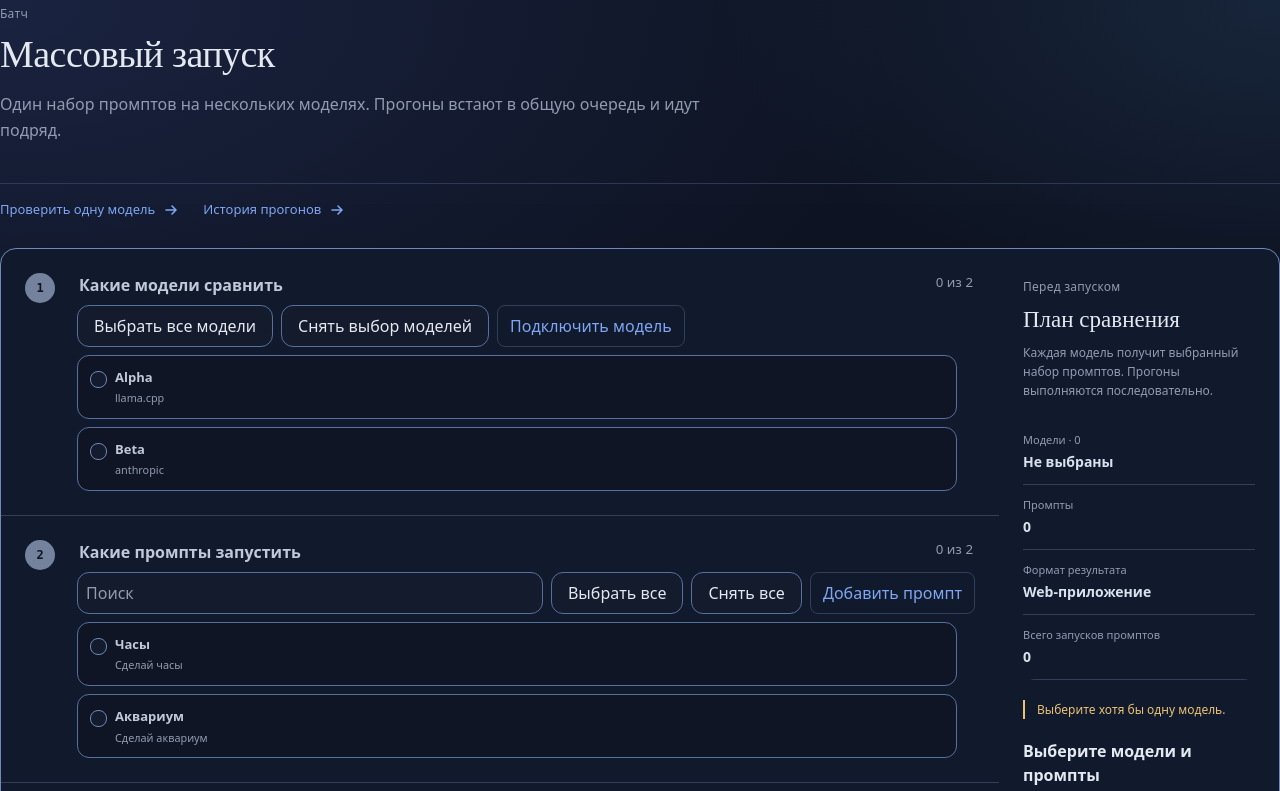
Test case: форма массового запуска › выбирает все модели и объясняет, чего не хватает для запуска
The width and height of the screenshot is (1280, 791).
Check: the text "Alpha" is shown, box [115,368,153,386]
Click the button "Выбрать все модели".
click(175, 326)  # box [77,305,273,347]
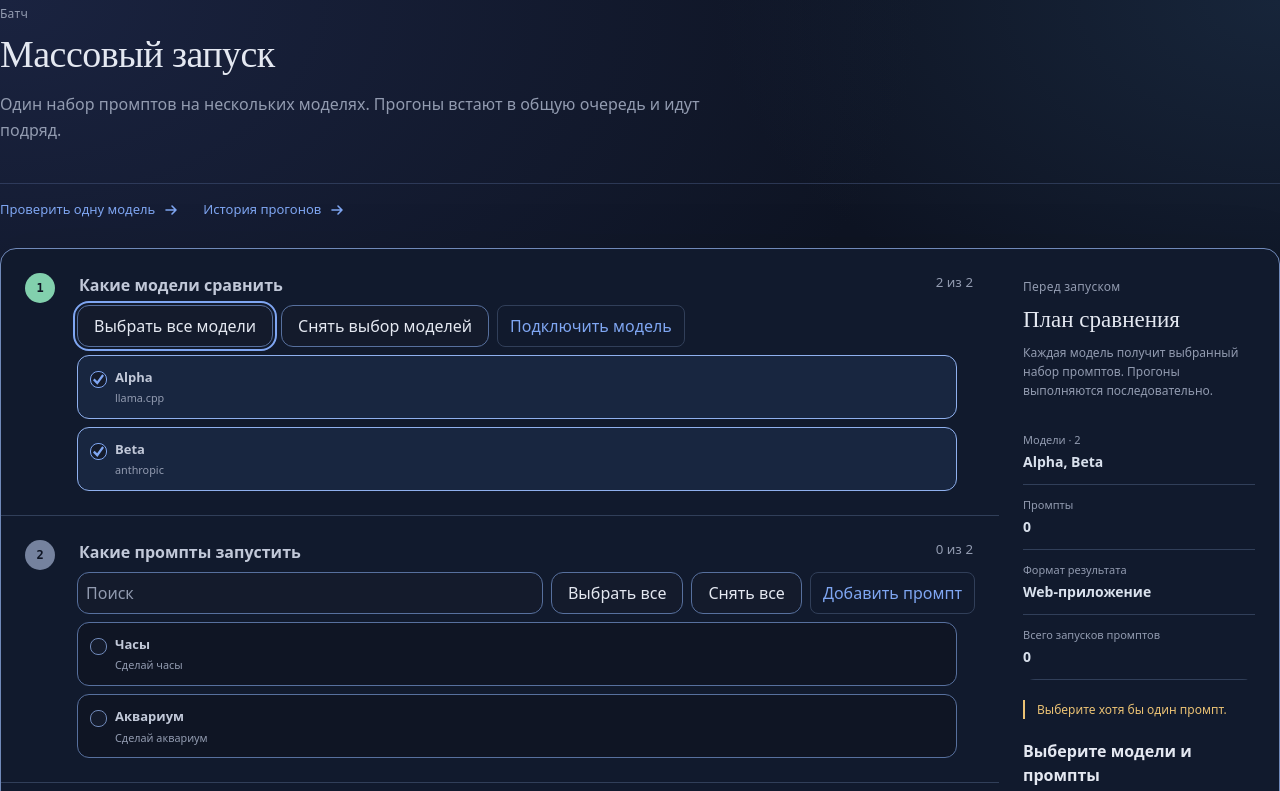
Check: the message named "Готовность батча" reads "Выберите хотя бы один промпт.", box [1037,701,1227,718]
Click the button "Выбрать все".
click(617, 593)  # box [551,572,684,614]
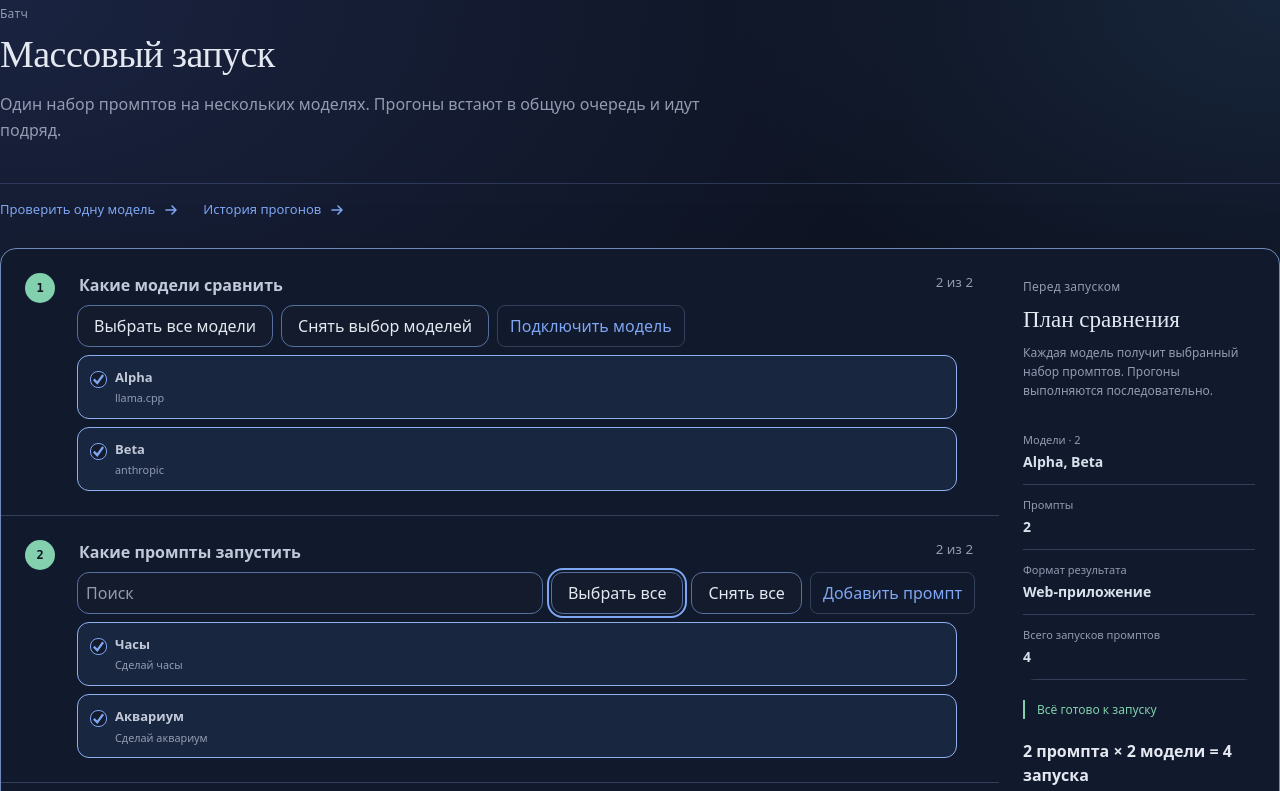
Check: the message named "Готовность батча" reads "Всё готово к запуску", box [1037,701,1157,718]
Check: the text "2 промпта × 2 модели = 4 запуска" is shown, box [1023,739,1255,787]
Click the button "Снять выбор моделей".
click(385, 326)  # box [281,305,489,347]
(page scrolled)
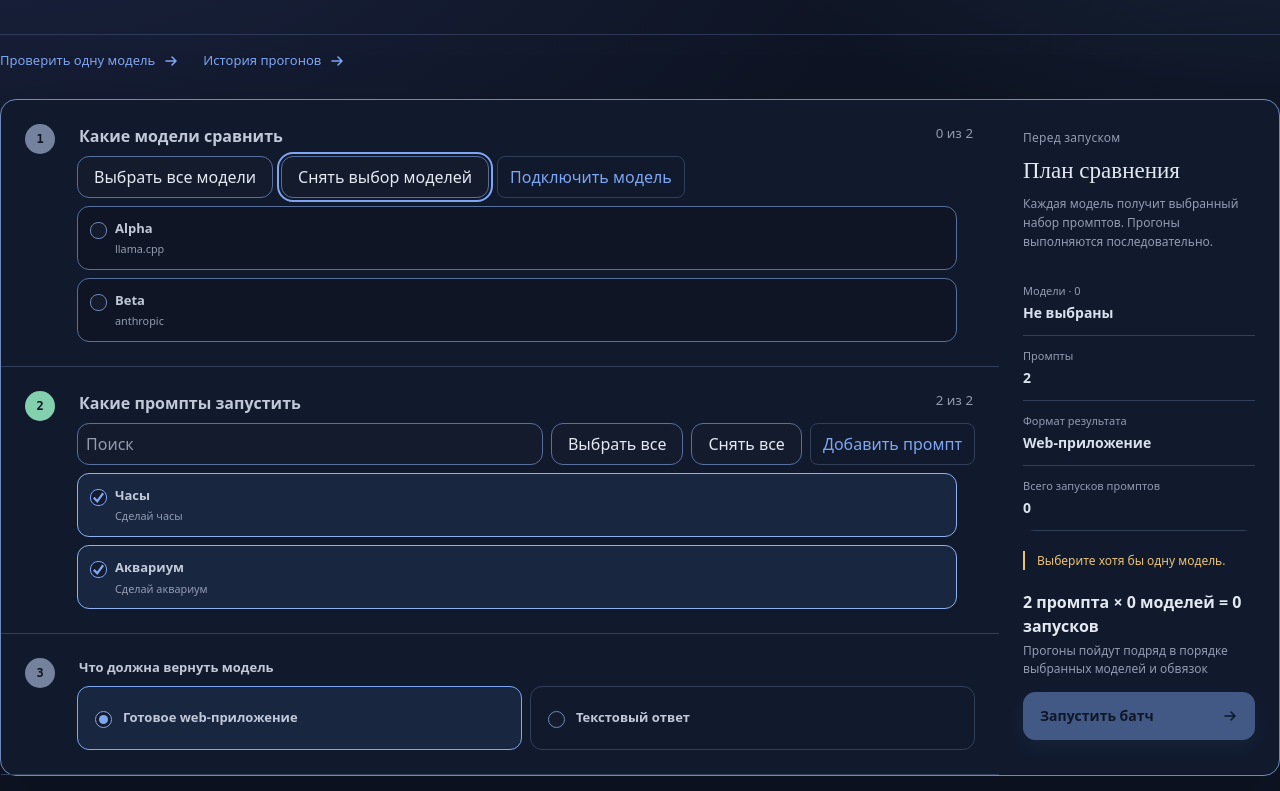
Check: the message named "Готовность батча" reads "Выберите хотя бы одну модель.", box [1037,552,1226,569]
Check: the button "Запустить батч" is disabled, box [1023,692,1255,740]
